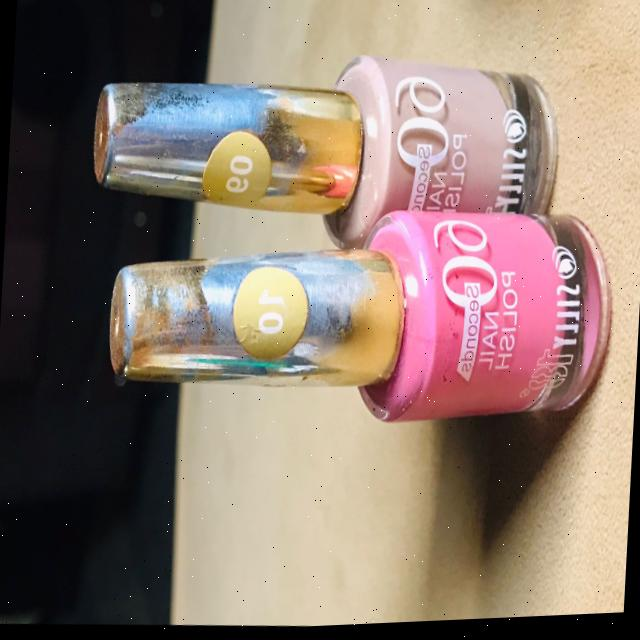nail polish: (78, 185, 638, 466), (78, 3, 563, 270)
